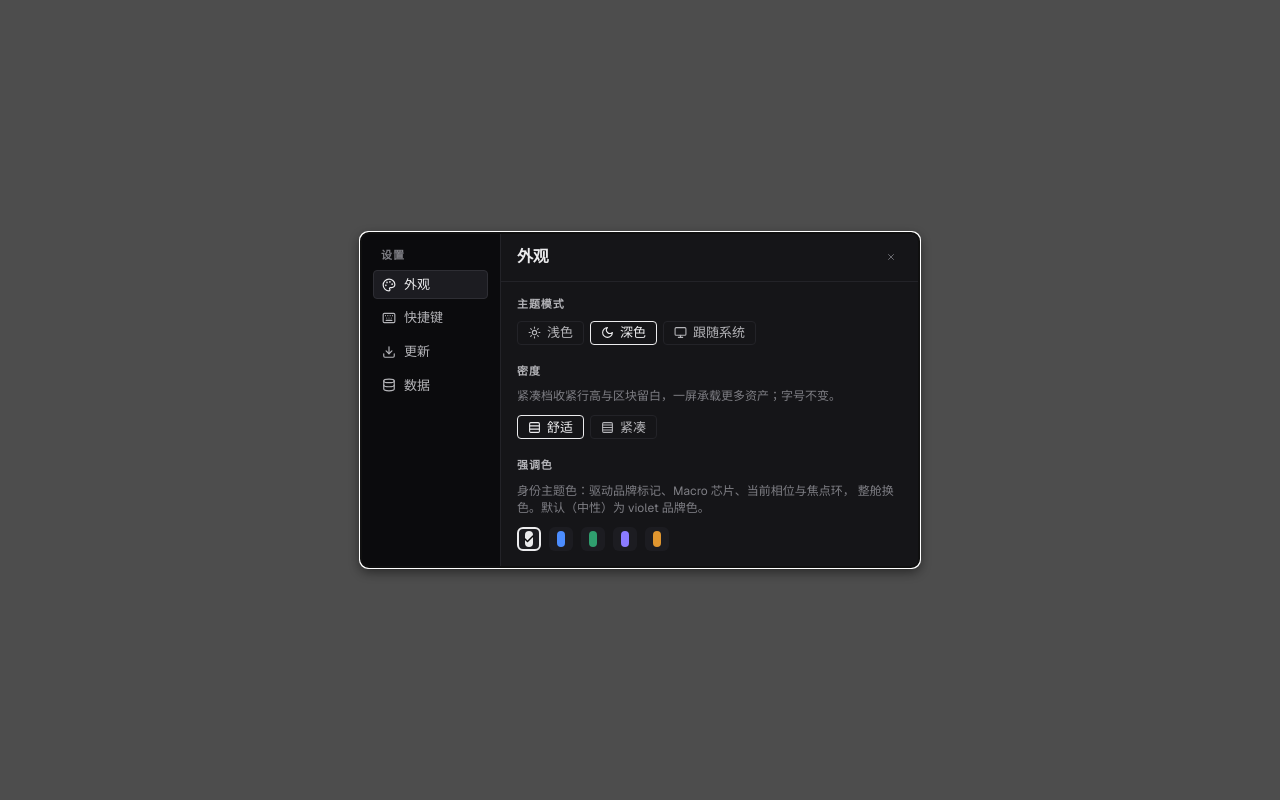
Test: TrashSection — settings 数据 page trash view (ADR-028 P1) › states how many items are in the trash
The width and height of the screenshot is (1280, 800).
Click the button "数据" at (430, 385), box [373,371,488,400]
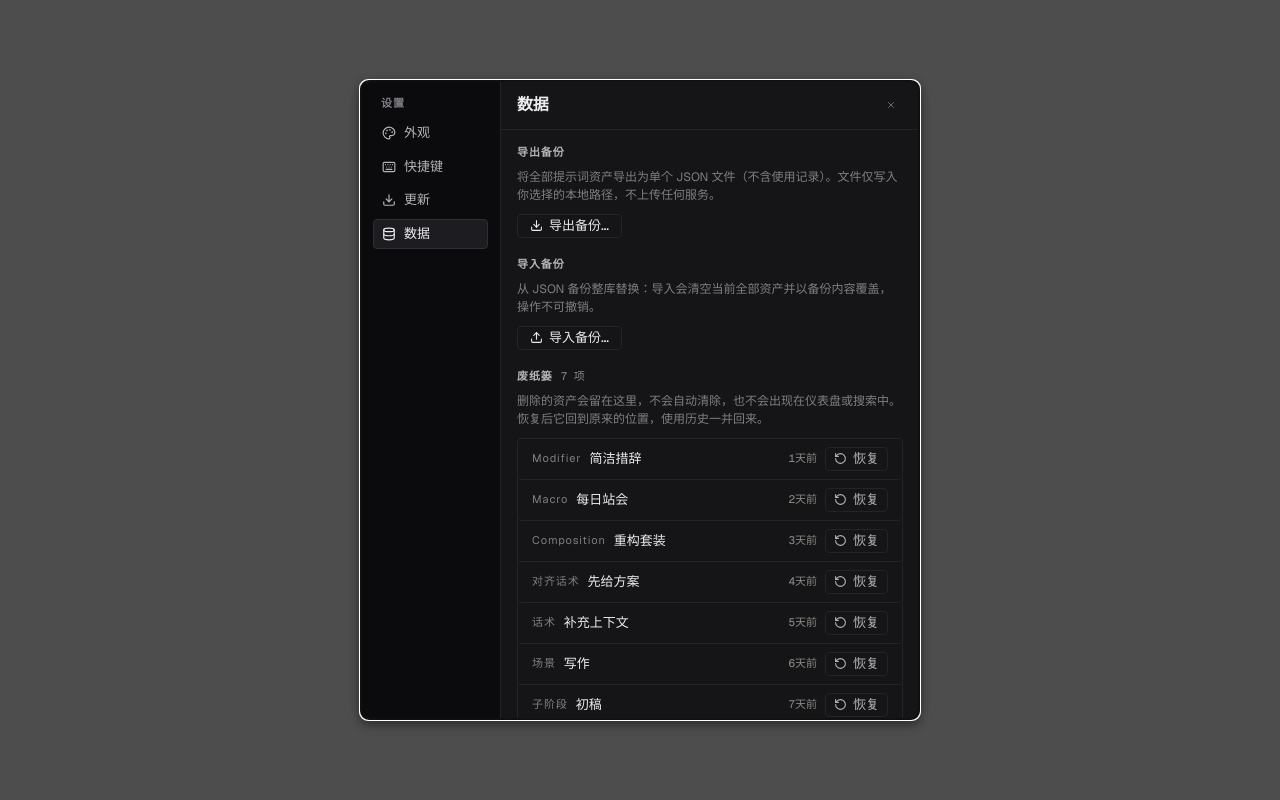
Result: the element "废纸篓" is shown at [517,370,903,719]
Result: the text "7 项" is shown at [561,370,585,383]
